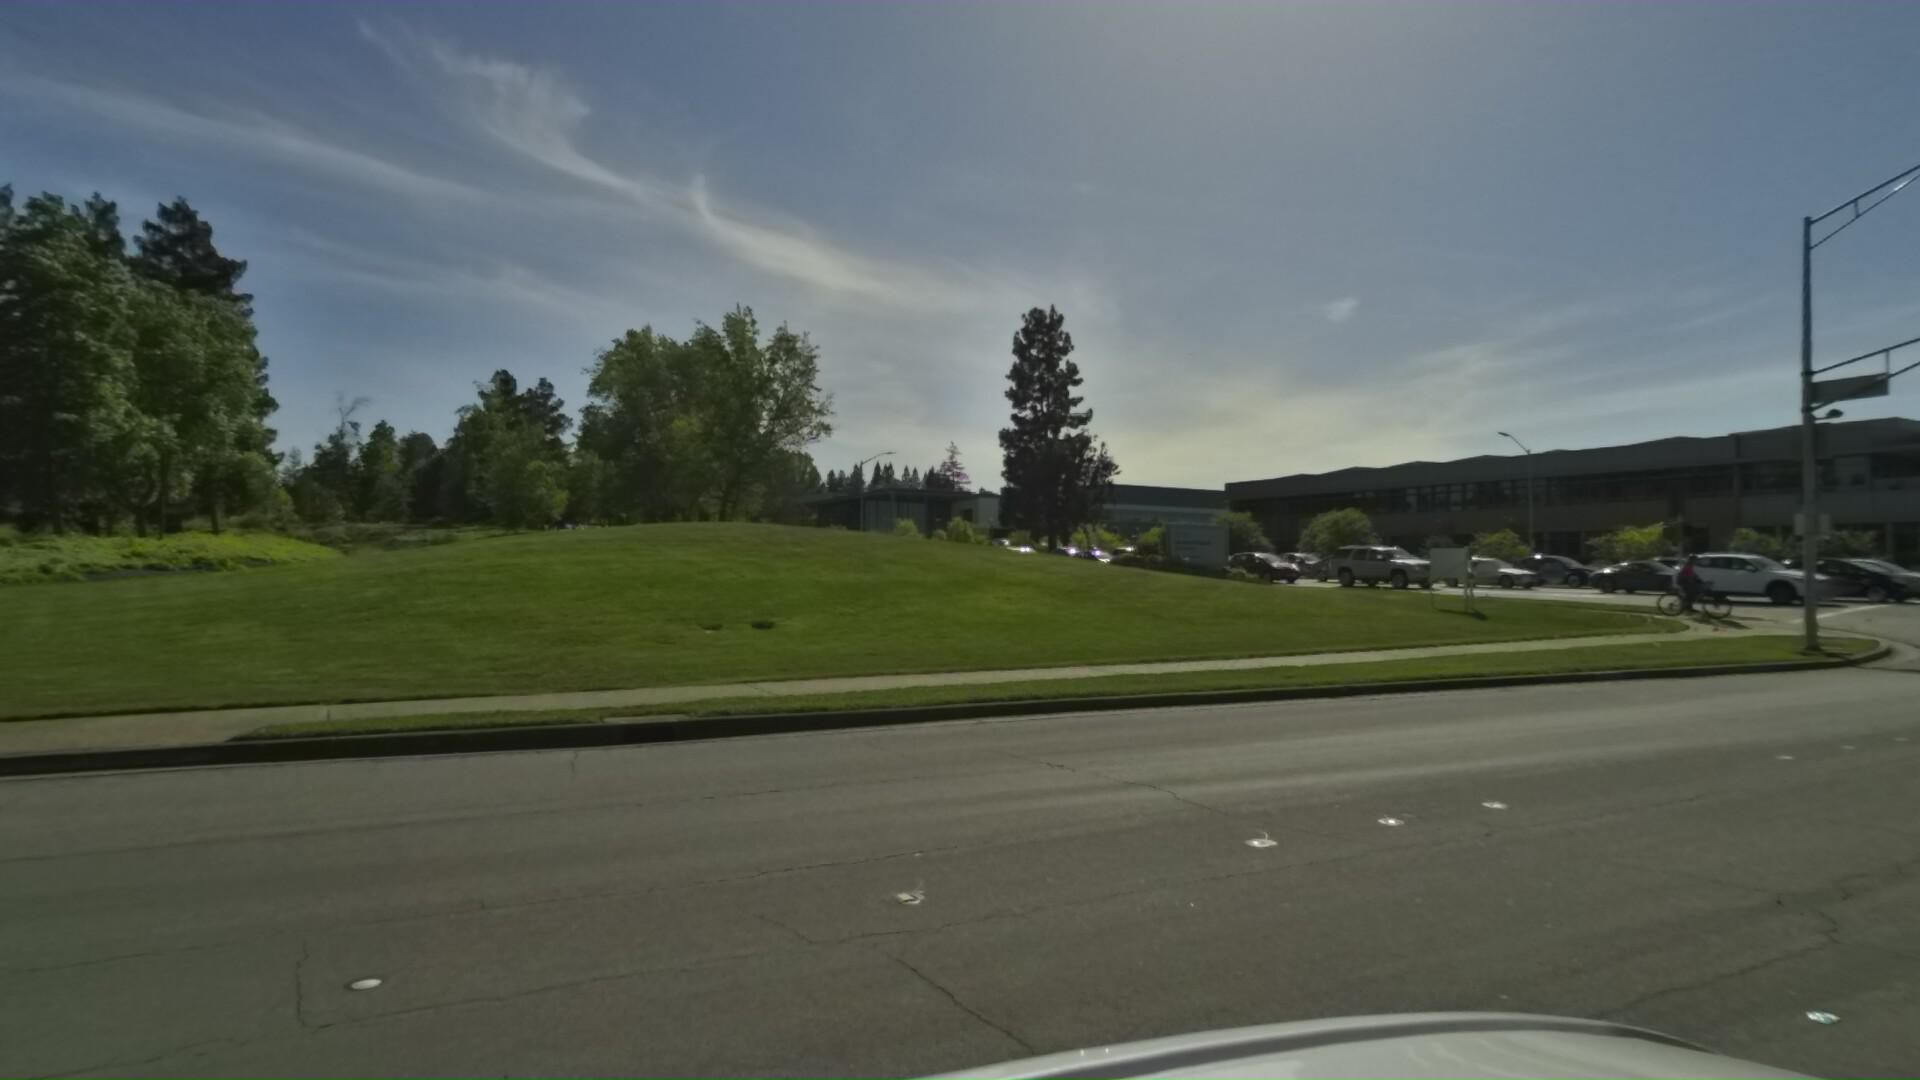bicycle: (1643, 549, 1729, 617)
car: (1658, 542, 1841, 605), (1756, 545, 1920, 599), (1316, 535, 1447, 589), (1571, 551, 1722, 597), (1783, 549, 1920, 596), (1428, 549, 1545, 591), (1493, 549, 1619, 584), (1305, 547, 1398, 582), (1217, 546, 1305, 582)
